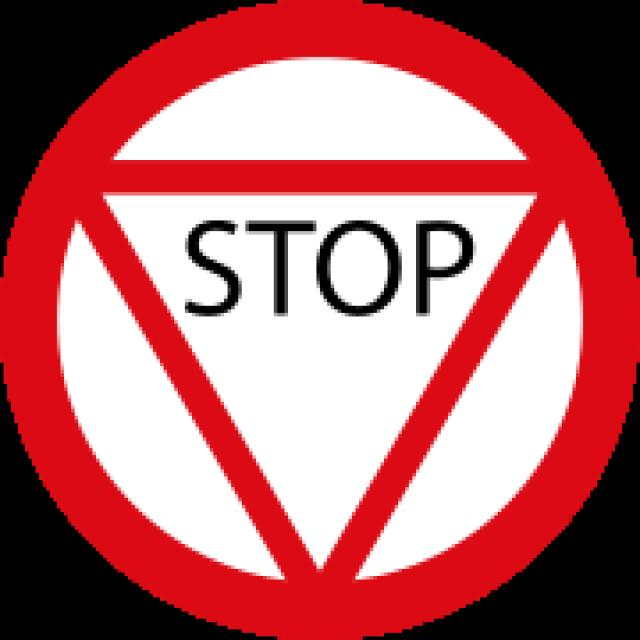Traffic sign: (7, 21, 627, 629)
